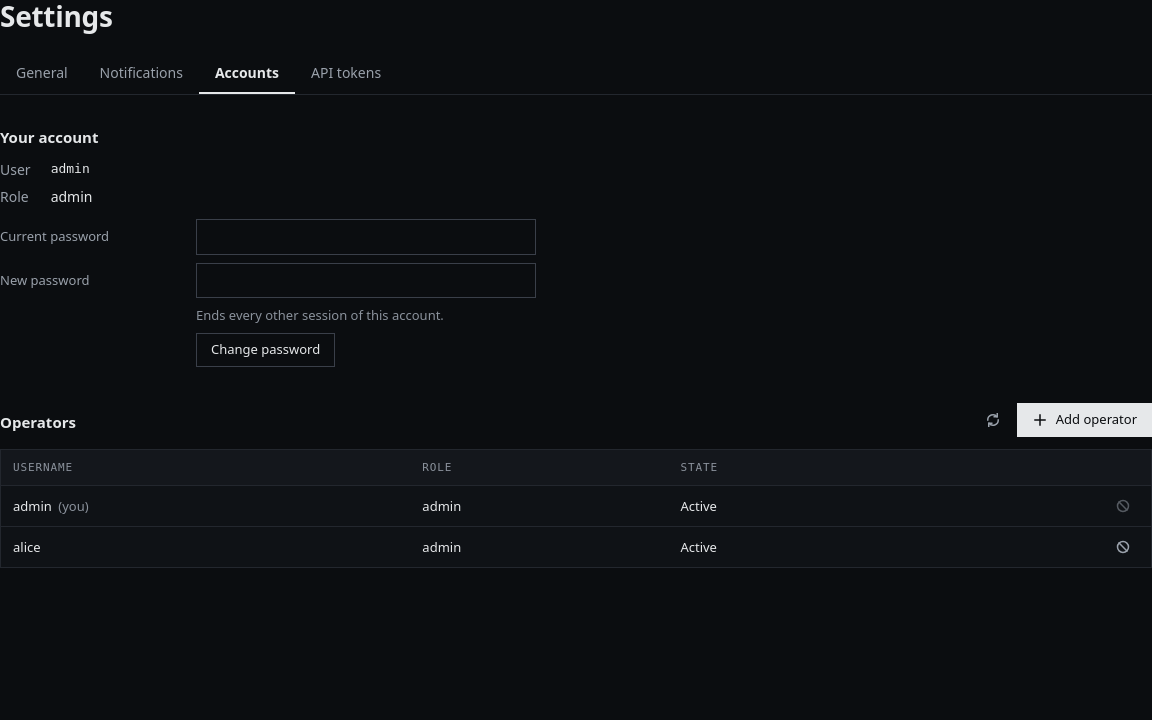
Test: disables the selected operator by name and prevents self-disable
Expected: the text "alice" is shown, [1,527,410,568]
Expected: the button named "Disable admin" is disabled, [1107,490,1139,522]
Step 1. Click the button named "Disable alice" → [1123, 548], box [1107,532,1139,564]
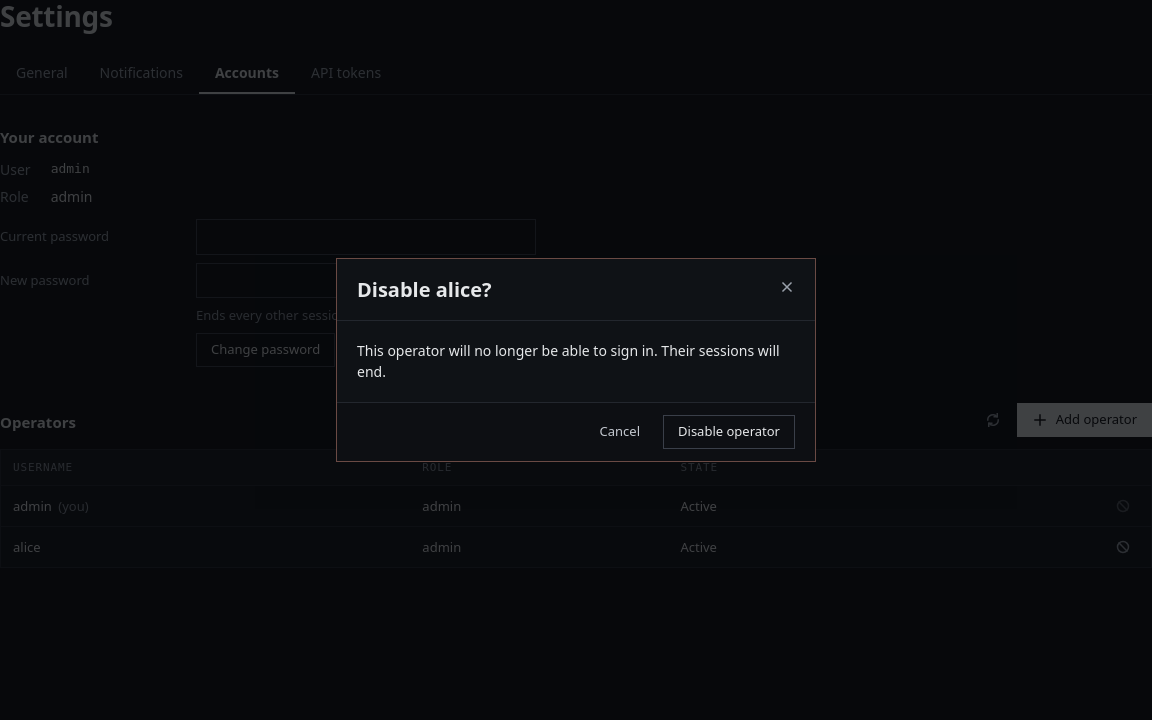
Step 2. Click the button "Disable operator" → [729, 432], box [663,415,795,449]
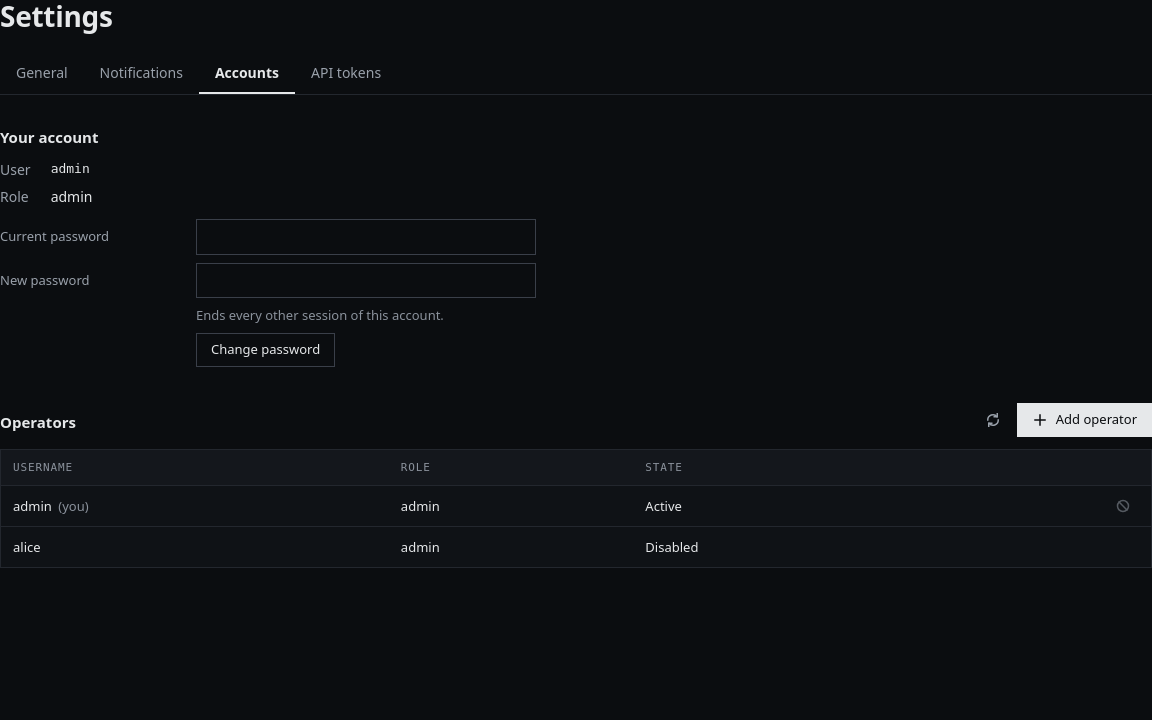
Expected: the text "Disabled" is shown, [633,527,933,567]
Expected: the heading "Disable alice" is gone
